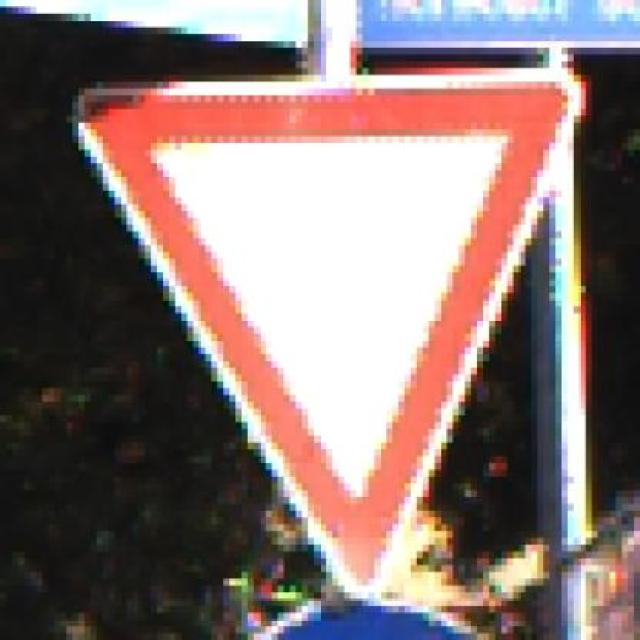Give Way: (48, 68, 604, 592)
